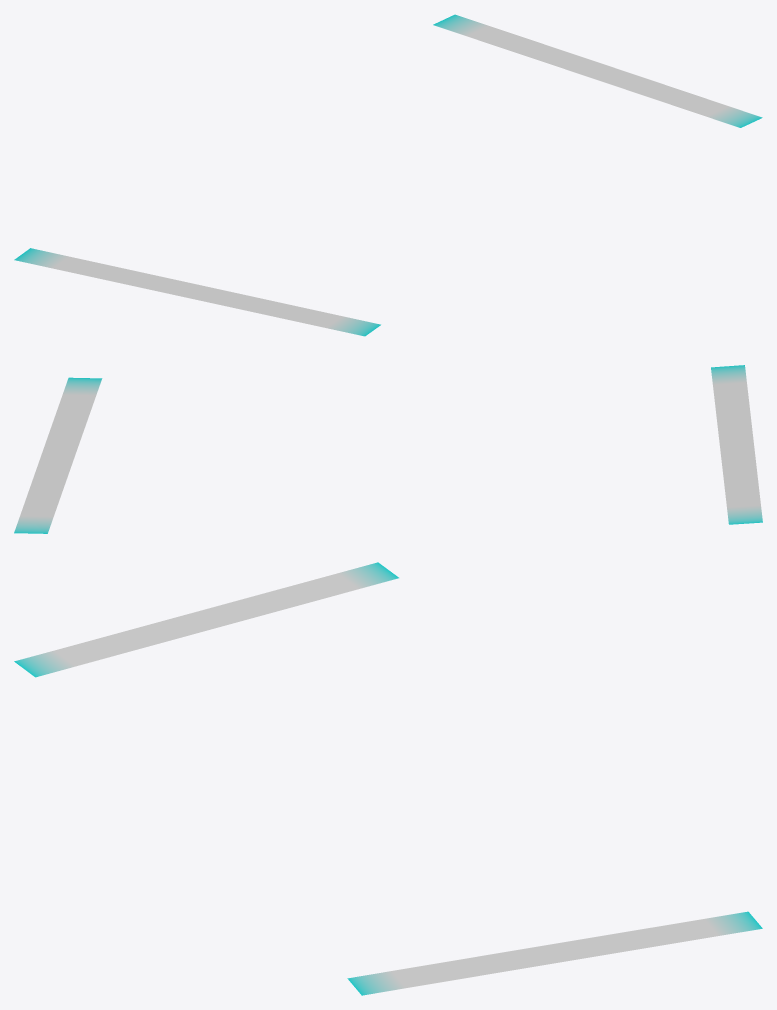
The picture shows the model from 3 angles, top to bottom: view 1: azimuth 30°, elevation 25°; view 2: azimuth 150°, elevation 25°; view 3: azimuth 270°, elevation 25°; orthographic projection. The views are drawn at different scales.
Visible parts, largest first — view 1: SpaceCenter_Long3_GenerateRoad_Asphalt_PCGMesh_Decal_Mesh_x1; view 2: SpaceCenter_Long3_GenerateRoad_Asphalt_PCGMesh_Decal_Mesh_x1; view 3: SpaceCenter_Long3_GenerateRoad_Asphalt_PCGMesh_Decal_Mesh_x1.
Part boxes in pixels (<box>): SpaceCenter_Long3_GenerateRoad_Asphalt_PCGMesh_Decal_Mesh_x1: <box>14,14,762,336</box>; SpaceCenter_Long3_GenerateRoad_Asphalt_PCGMesh_Decal_Mesh_x1: <box>14,365,762,533</box>; SpaceCenter_Long3_GenerateRoad_Asphalt_PCGMesh_Decal_Mesh_x1: <box>14,562,762,995</box>.
Size of the model in its own units: 681 by 854 by 36.54.
